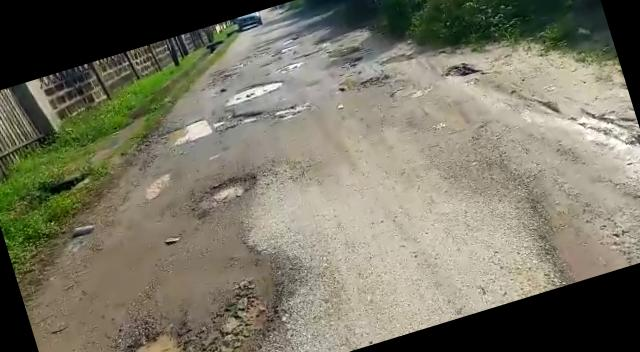pothole: (91, 267, 320, 352), (155, 100, 263, 150), (185, 166, 267, 216), (224, 74, 288, 107), (270, 100, 307, 122)
